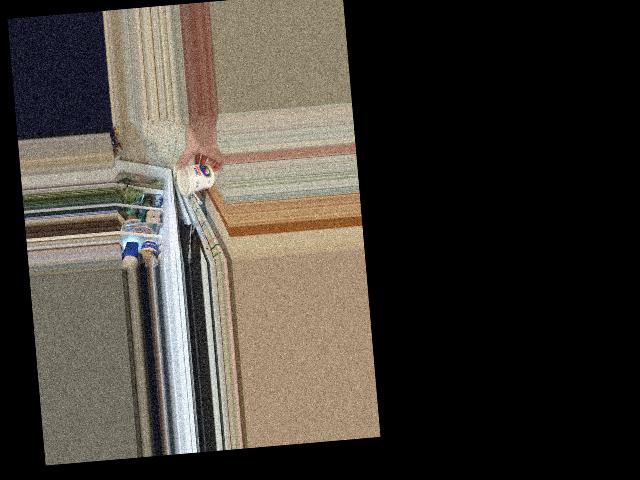cotage: (173, 159, 216, 194)
